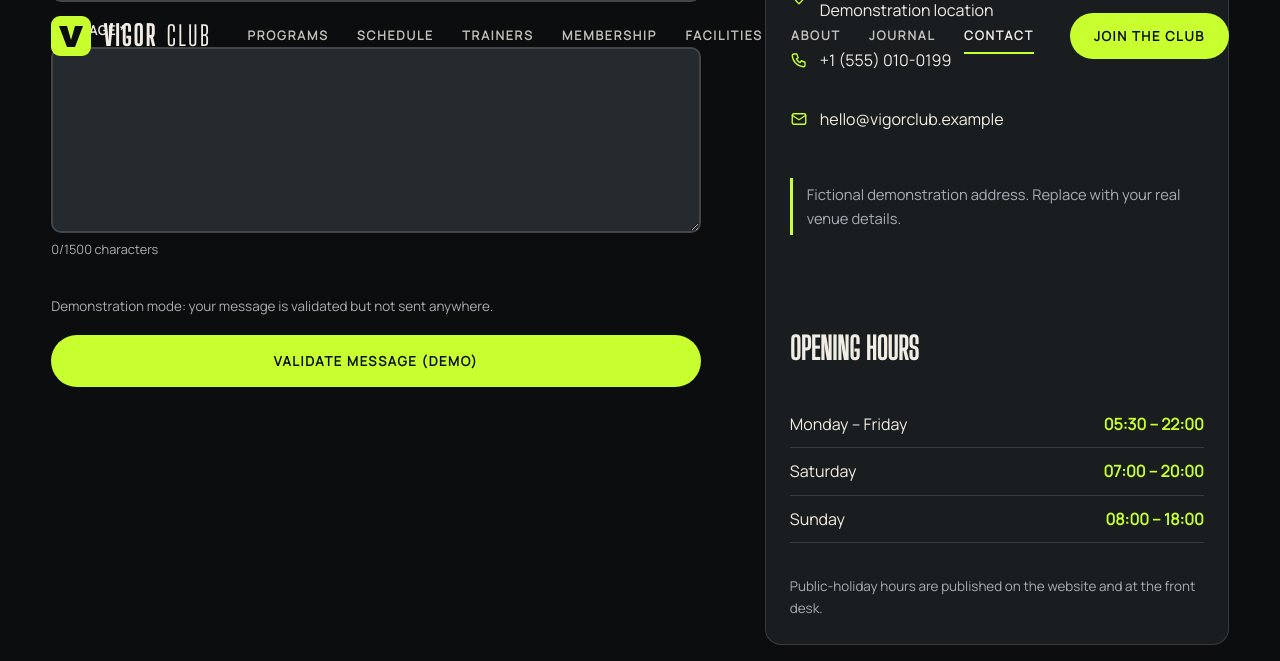
Scenario: contact › validates, then discloses that nothing is delivered
The width and height of the screenshot is (1280, 661).
(page scrolled)
Click the button "Validate message (demo)" at (376, 361), box left=51, top=335, right=701, bottom=387
(page scrolled)
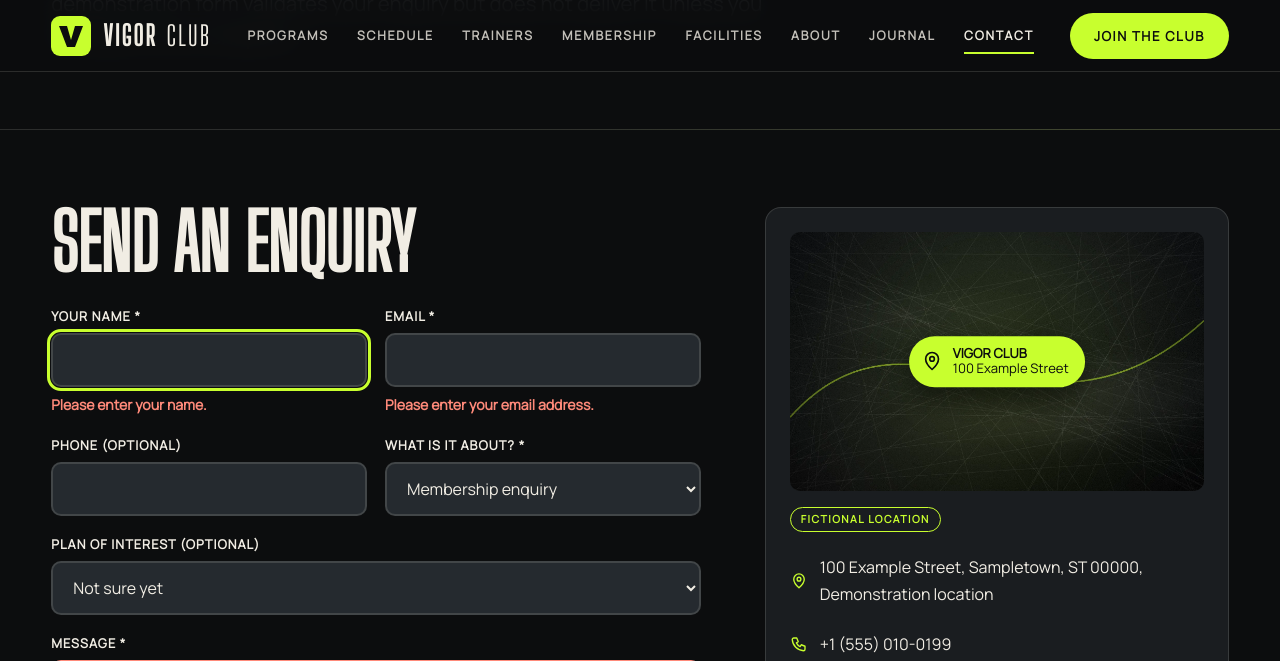
Type "Sam" into the field labelled "Your name *" at (209, 360), box left=51, top=333, right=367, bottom=387
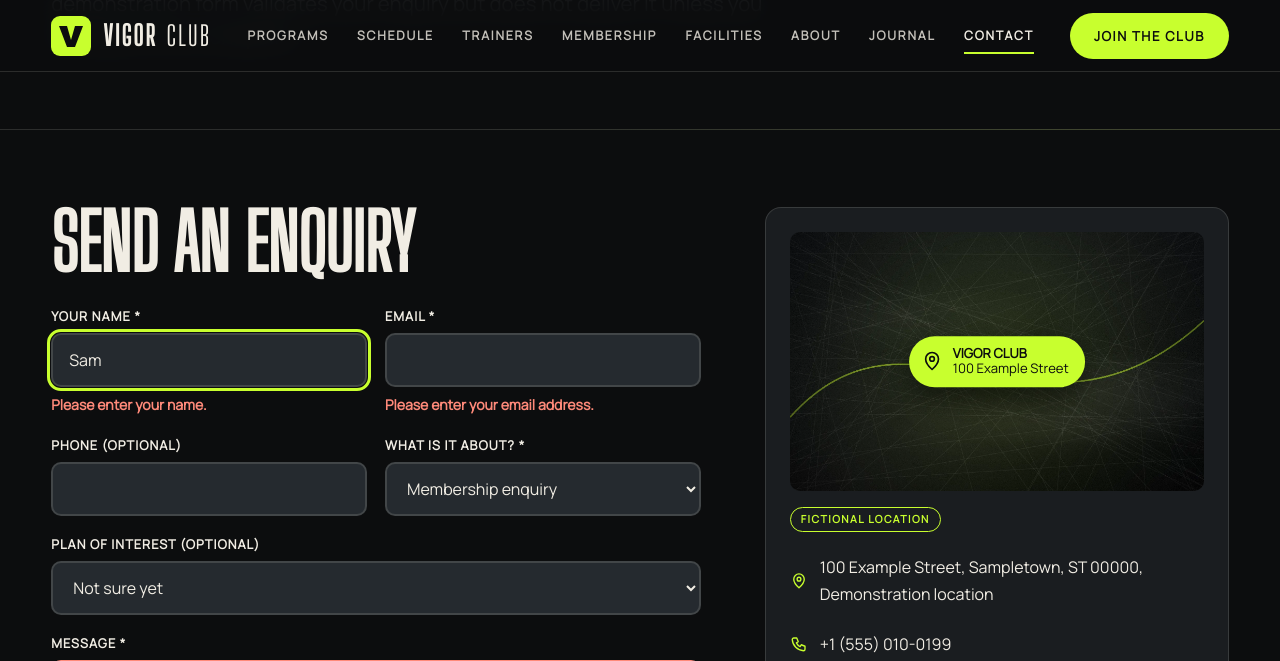
Type "sam@example.com" into the field labelled "Email *" at (543, 360), box left=385, top=333, right=701, bottom=387
(page scrolled)
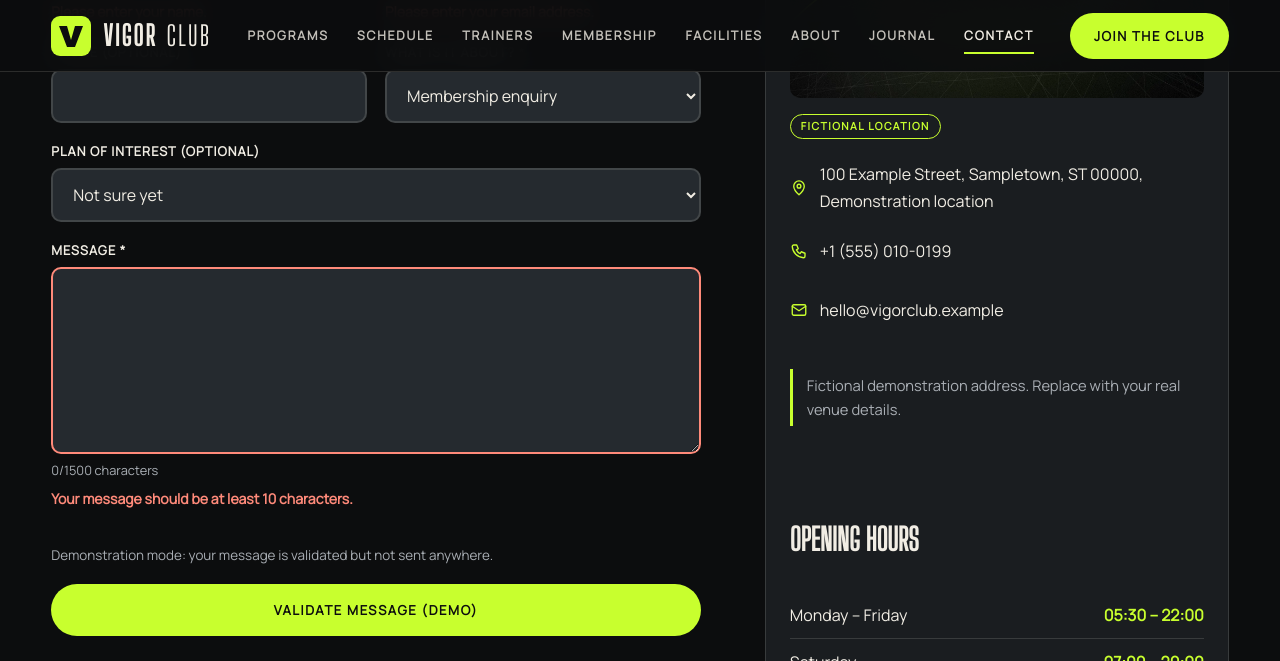
Type "I would like to know more about the Club plan." into the text box labelled "Message *" at (376, 360), box left=51, top=267, right=701, bottom=454
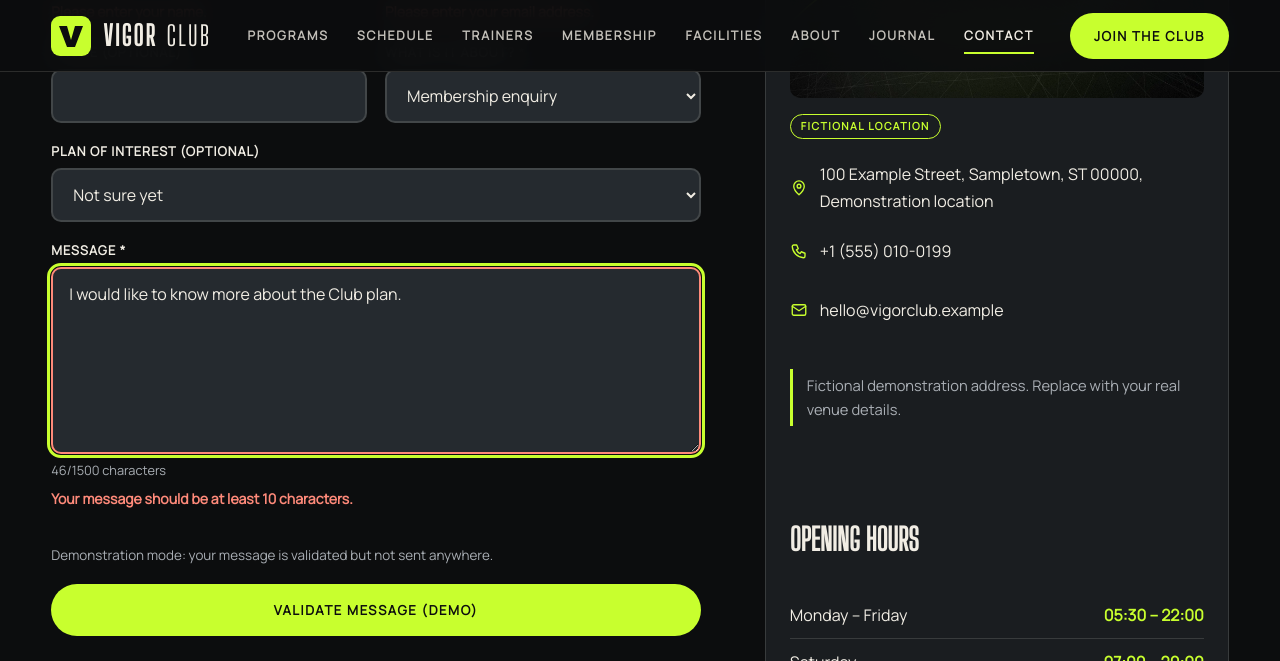
Expected: the dropdown labelled "What is it about? *" shows "Membership enquiry", left=385, top=69, right=701, bottom=123
Click the button "Validate message (demo)" at (376, 610), box left=51, top=584, right=701, bottom=636
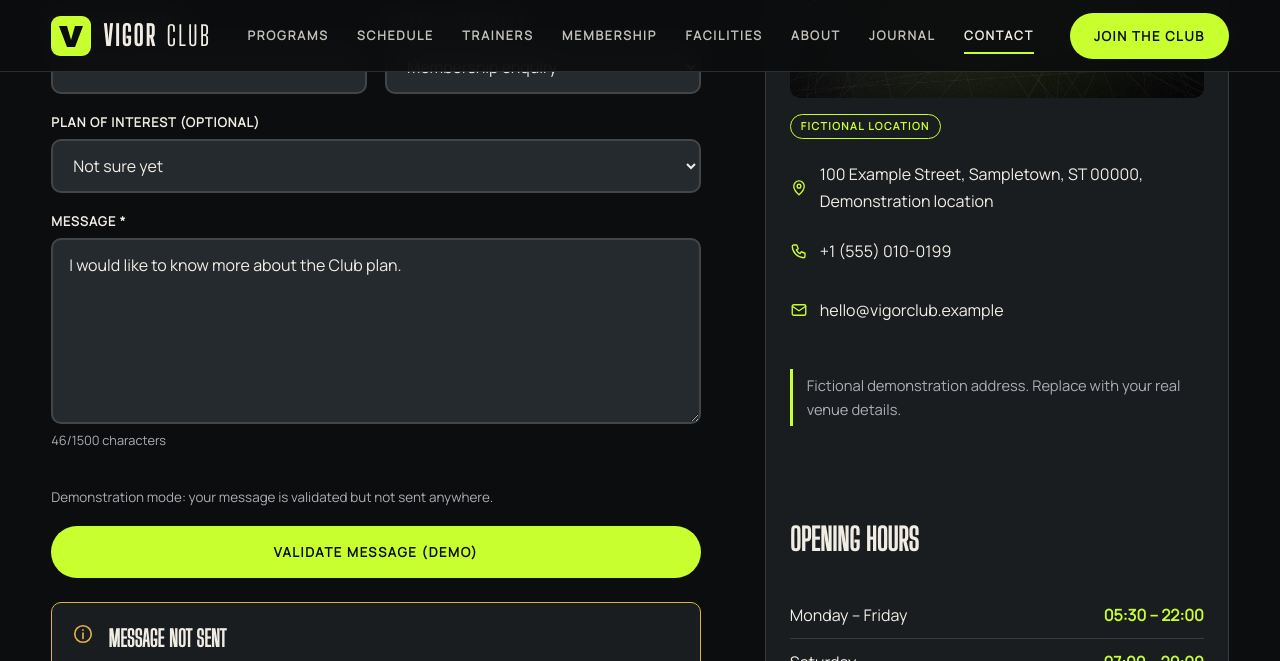
Result: the heading "Message not sent" is shown at left=108, top=625, right=226, bottom=652
